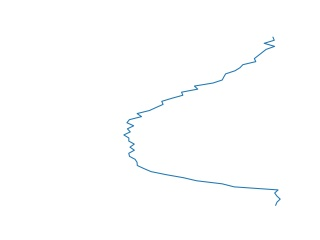underwaterDistributaryChannel: (121, 39, 285, 205)
